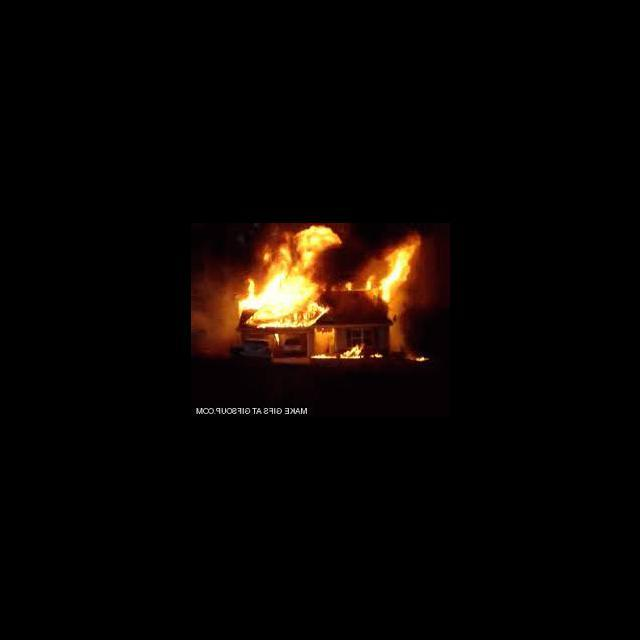Fire: (235, 227, 338, 329), (377, 235, 426, 302), (338, 342, 366, 359), (310, 351, 336, 360), (363, 272, 372, 292), (271, 332, 281, 346), (369, 352, 384, 360), (414, 356, 428, 364), (345, 279, 353, 291)
